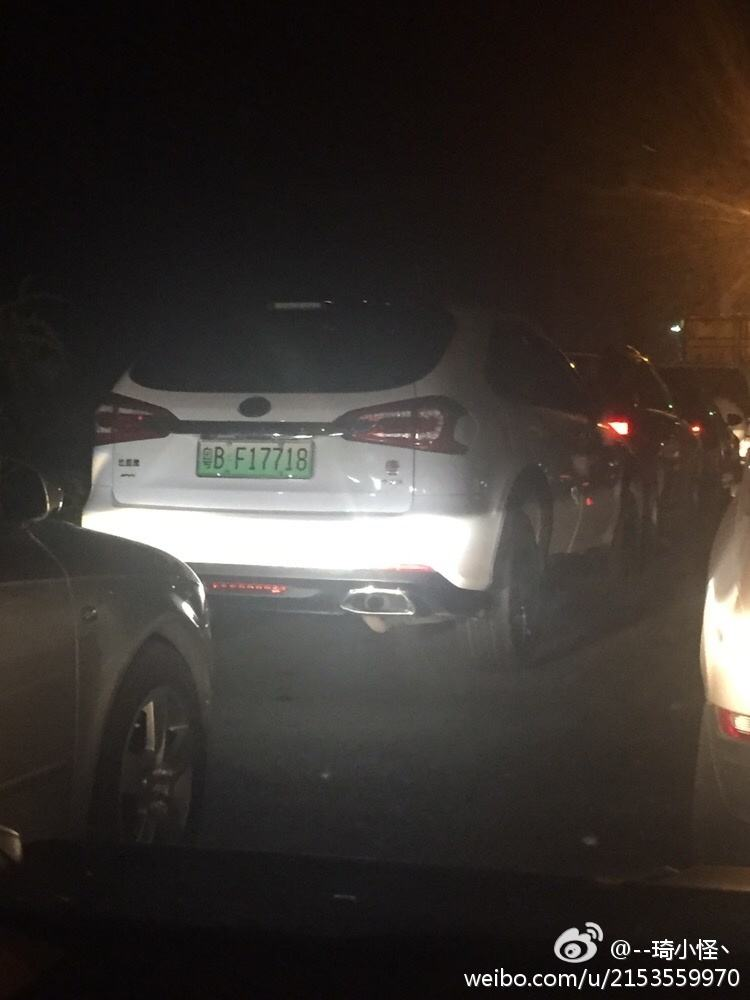plate: (183, 412, 326, 492)
